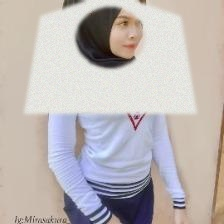Mukena: (24, 0, 196, 113)
